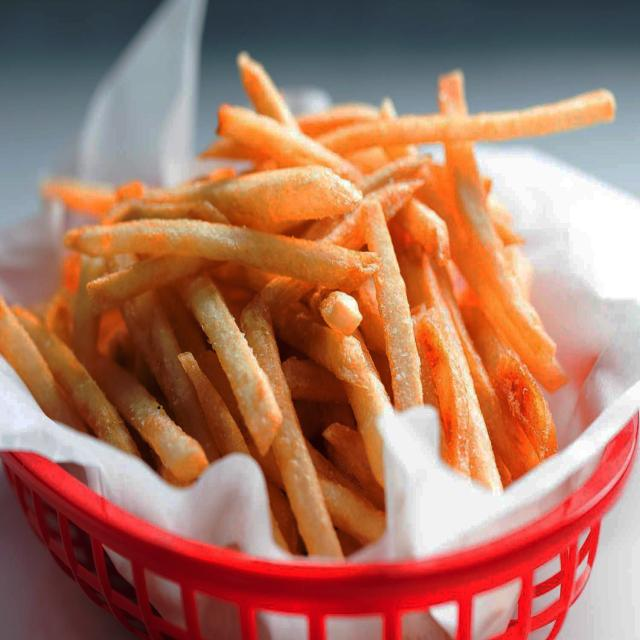french fries: (0, 52, 615, 561)
